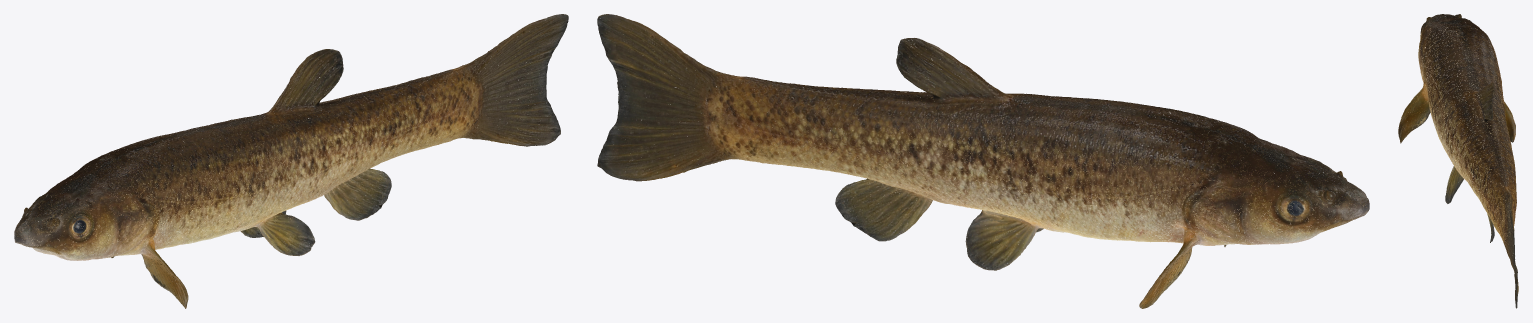
The model's file is fish.glb.
3 views of the same model, side by side, from view 1: azimuth 30°, elevation 25°; view 2: azimuth 150°, elevation 25°; view 3: azimuth 270°, elevation 25° (orthographic). The views are drawn at different scales.
Visible parts, largest first — view 1: yu_002; view 2: yu_002; view 3: yu_002.
Part boxes in pixels (<box>): yu_002: <box>14,14,568,308</box>; yu_002: <box>597,14,1369,308</box>; yu_002: <box>1398,14,1518,308</box>.
Size of the model in its own units: 9.46 by 2.7 by 2.08.
Materials: 1 (1 with a texture image).
